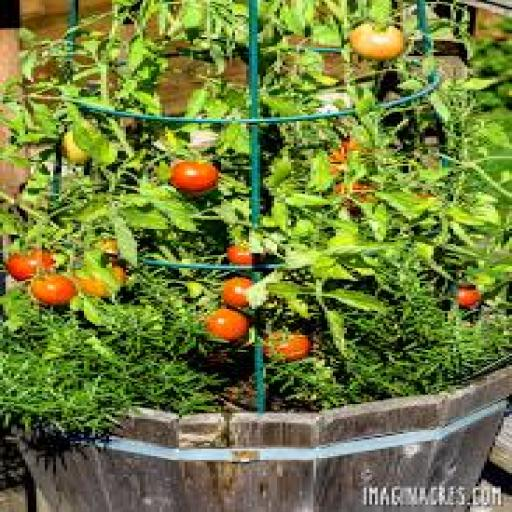tomato: (356, 24, 406, 64), (58, 129, 98, 168), (172, 162, 220, 193), (74, 266, 126, 294), (265, 330, 308, 362), (30, 276, 76, 304), (208, 308, 246, 340), (12, 249, 51, 280), (328, 141, 360, 171), (334, 183, 372, 207), (225, 278, 255, 307), (222, 246, 260, 266), (94, 238, 124, 257), (456, 288, 480, 307), (416, 193, 435, 207)
